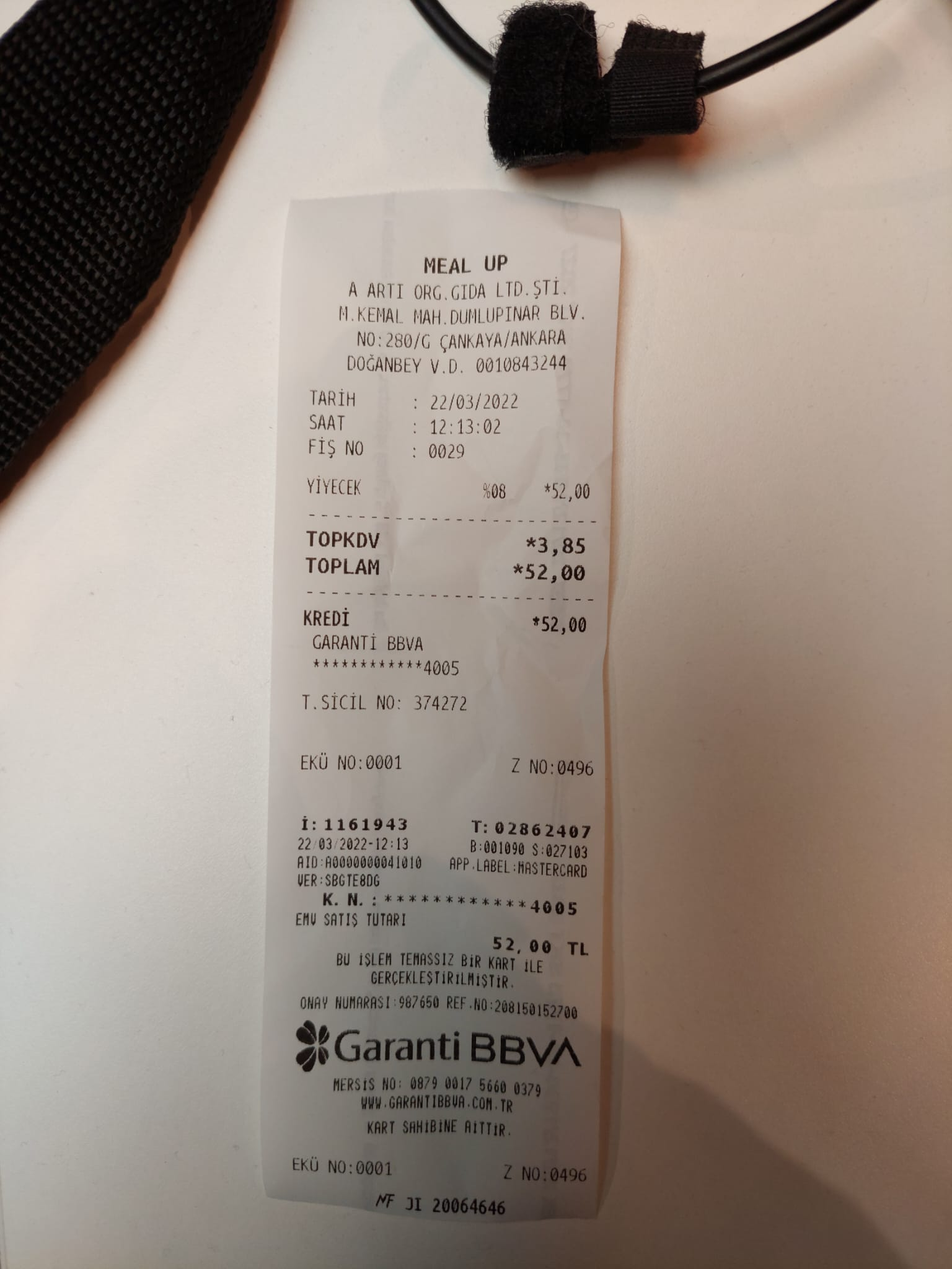date: (427, 385, 523, 418)
price: (522, 558, 594, 590)
workplace: (329, 247, 596, 354)
